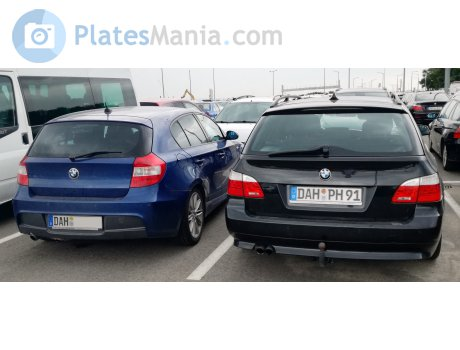License Plates: (293, 185, 363, 203)
